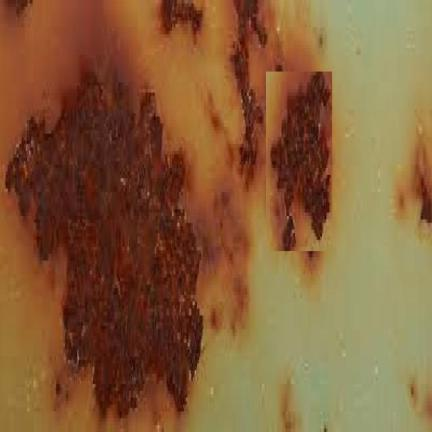karat: (6, 75, 203, 415)
